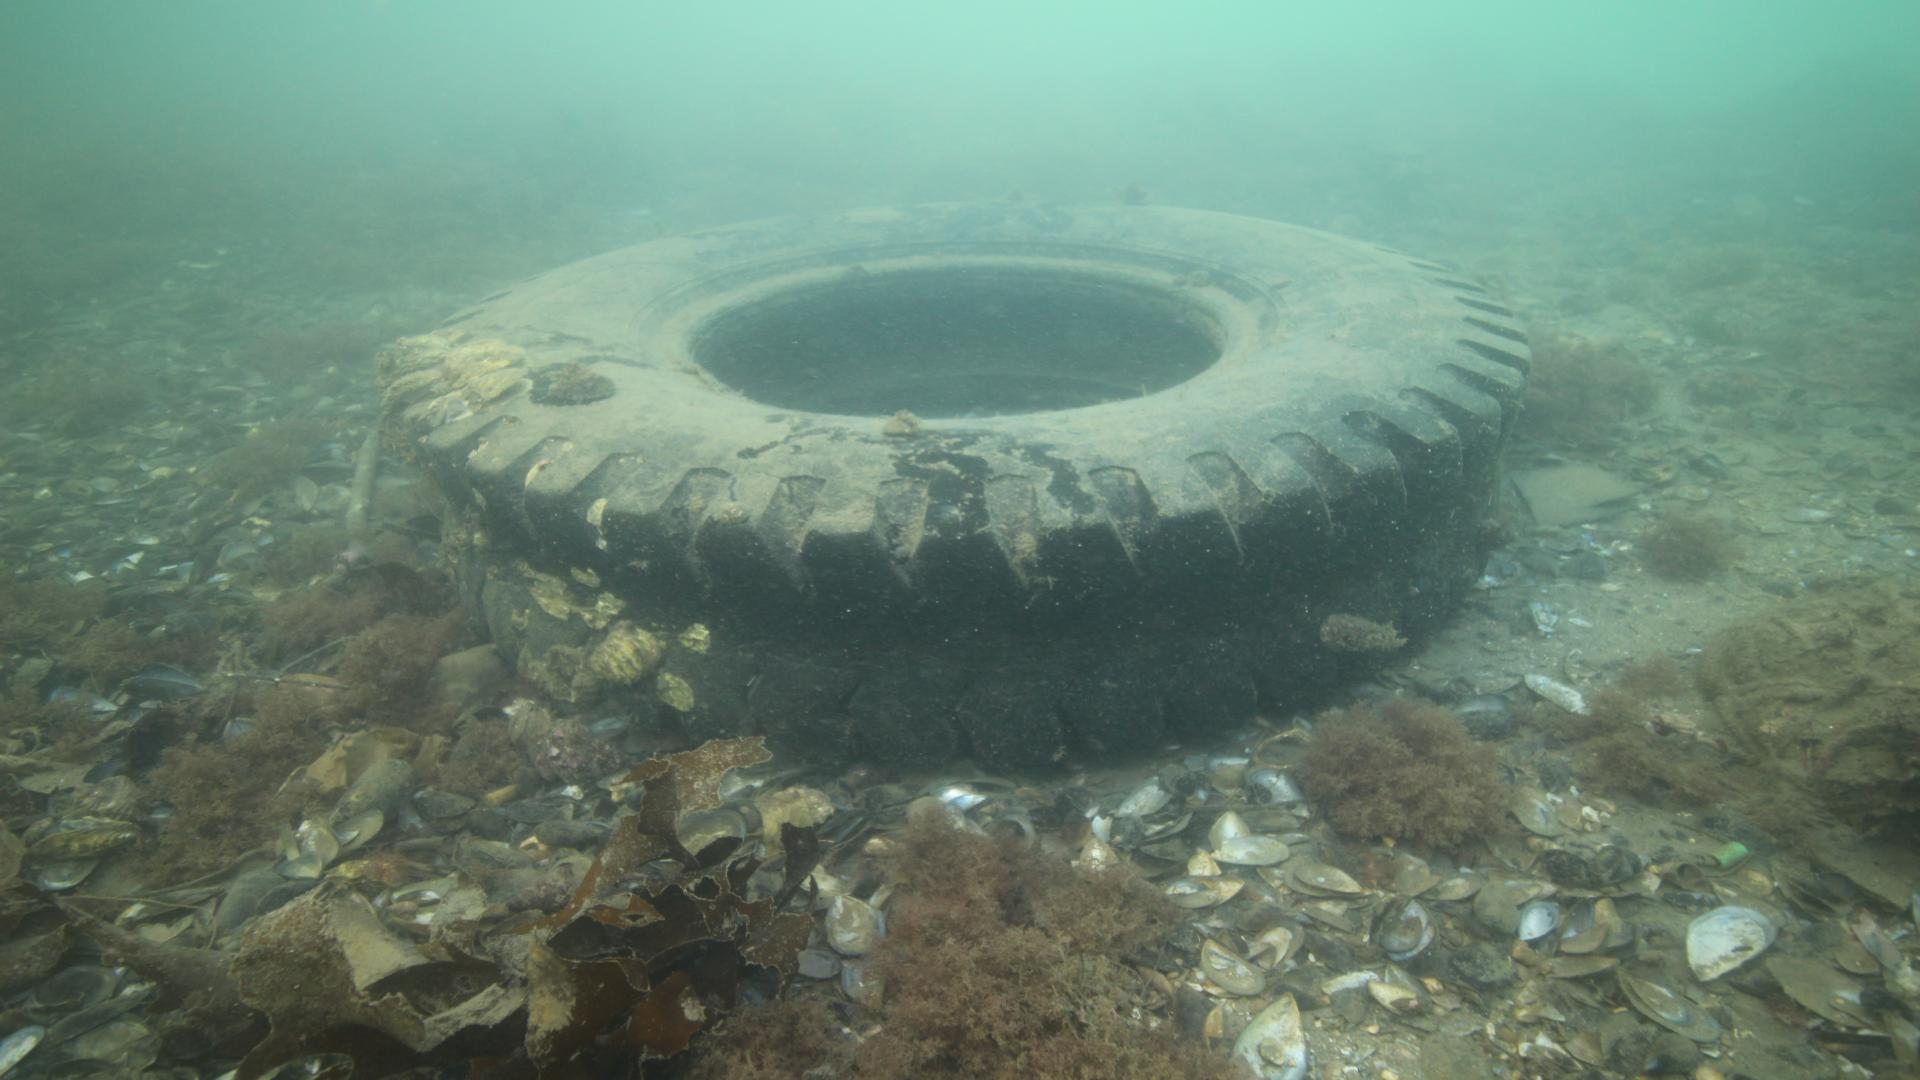tire: (392, 189, 1528, 767)
